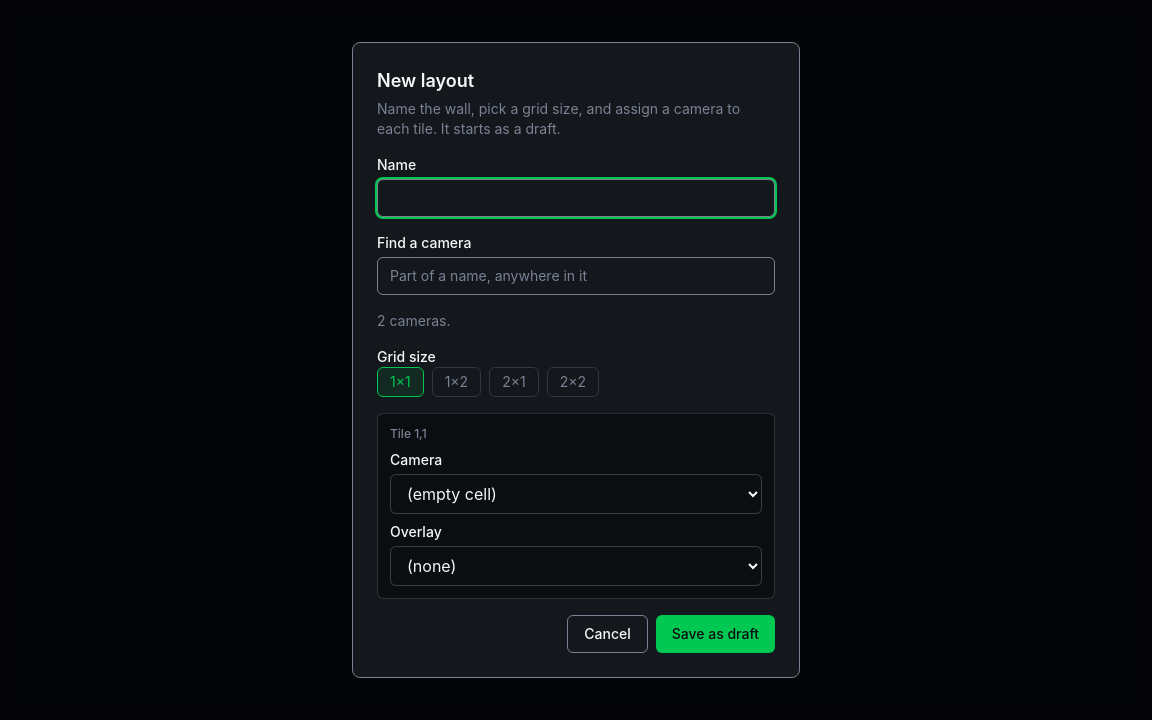
LayoutEditorDialog — the retained camera survives a close and reopen › Leaves Save enabled when a fragment matches nothing
Type "wall" into the field labelled "Name" at (576, 198), box x1=377 y1=179 x2=775 y2=217
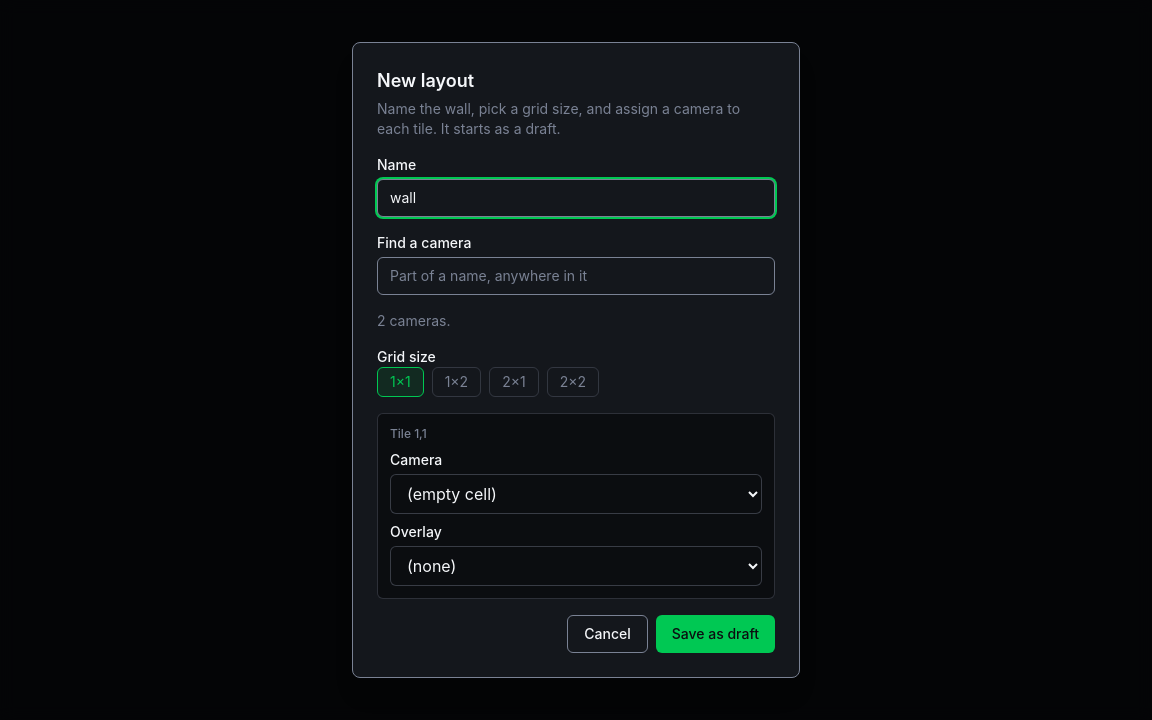
Select "Line 2 Furnace" in the dropdown labelled "Camera" at (576, 494), box x1=390 y1=474 x2=762 y2=514
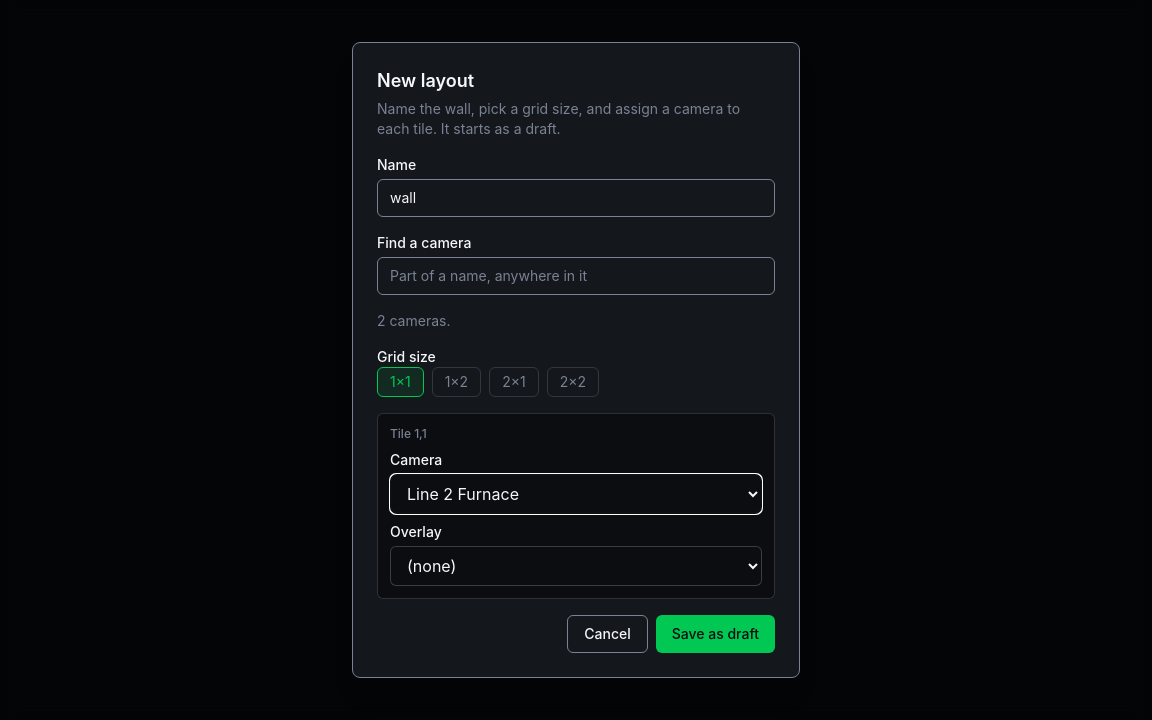
Click the search field labelled "Find a camera" at (576, 276), box x1=377 y1=257 x2=775 y2=295
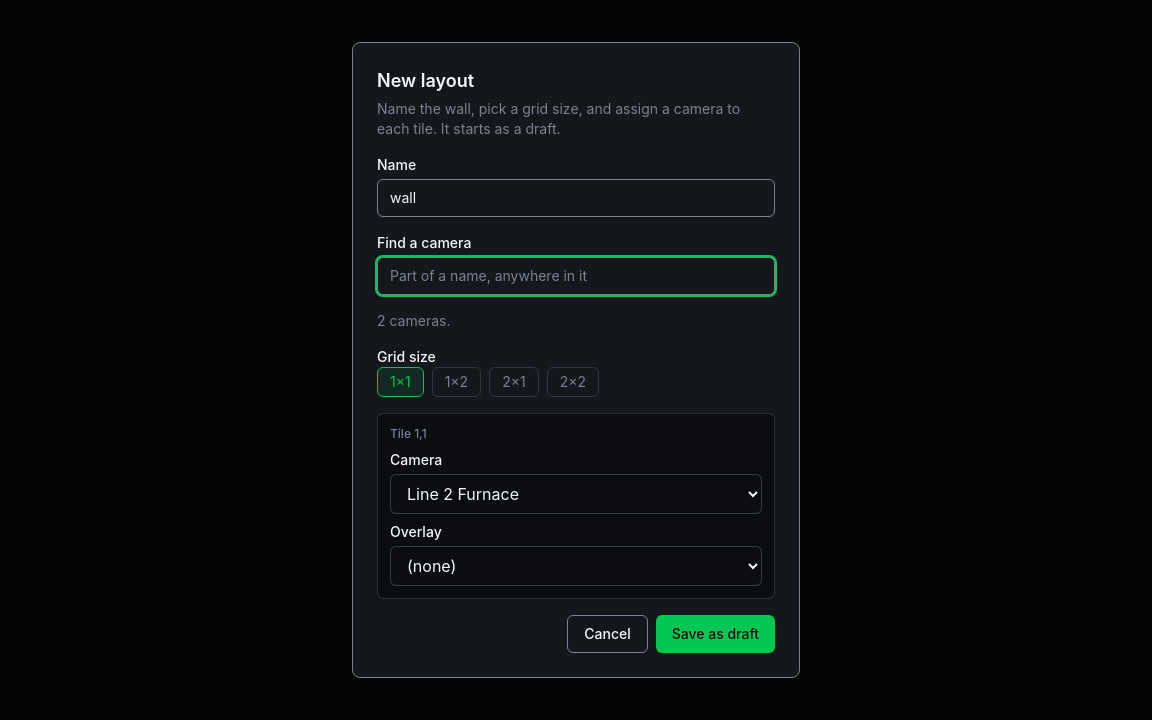
Type keys "nothingmatchesthis"
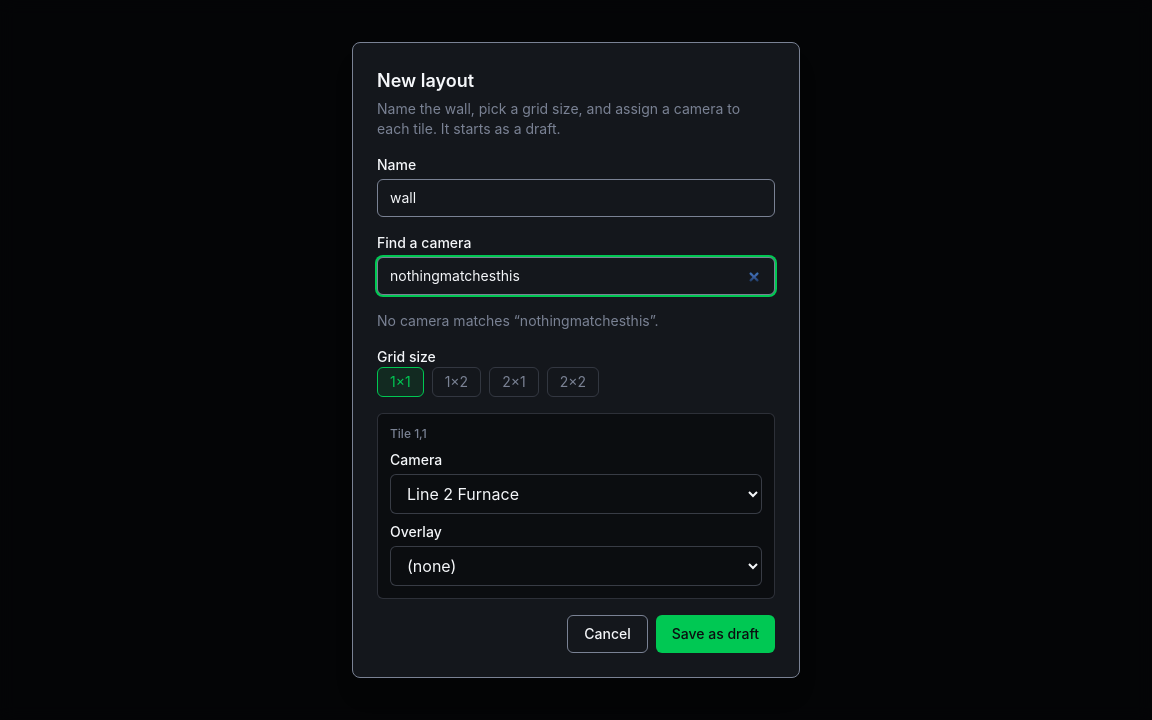
Expected: the button "Save as draft" is enabled, x1=656 y1=615 x2=775 y2=653
Now the text "No camera matches “nothingmatchesthis”." is shown, box x1=377 y1=312 x2=658 y2=329
